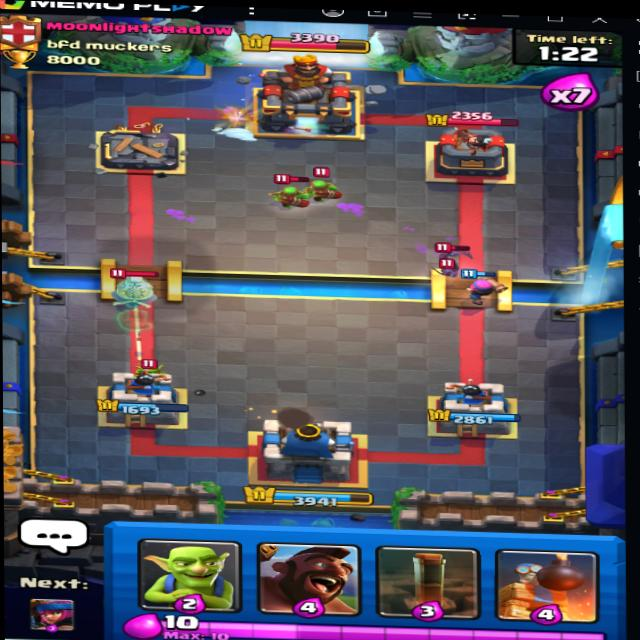bats: (433, 259, 473, 286), (436, 242, 476, 264)
goblin: (136, 351, 166, 379)
monk: (97, 265, 167, 307)
monk-ability: (97, 264, 176, 308)
spear-goblin: (271, 174, 316, 208), (299, 165, 338, 203)
